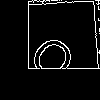O: (25, 25, 85, 86)
